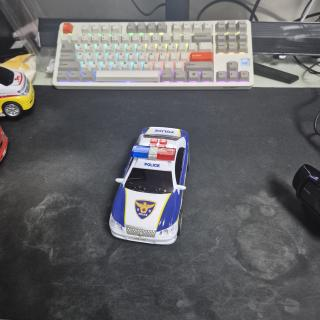Police_car: (110, 127, 190, 244)
